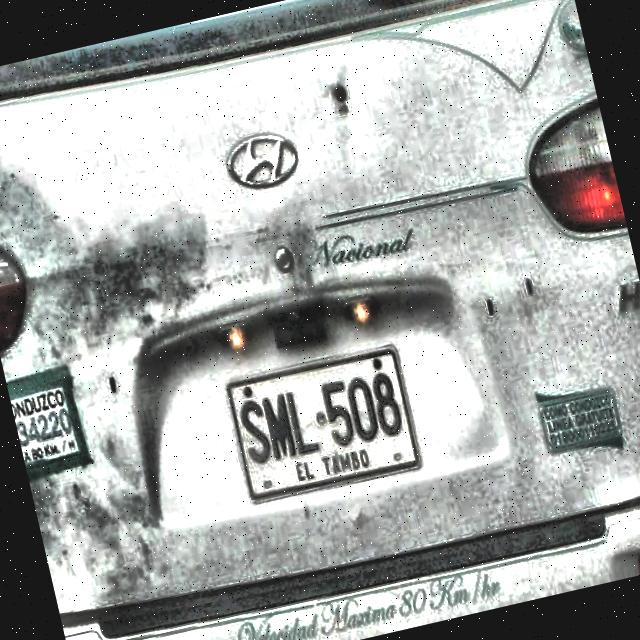0: (343, 374, 382, 445)
5: (318, 378, 358, 449)
8: (367, 369, 406, 441)
L: (284, 387, 323, 458)
M: (260, 391, 299, 462)
S: (235, 396, 274, 467)
